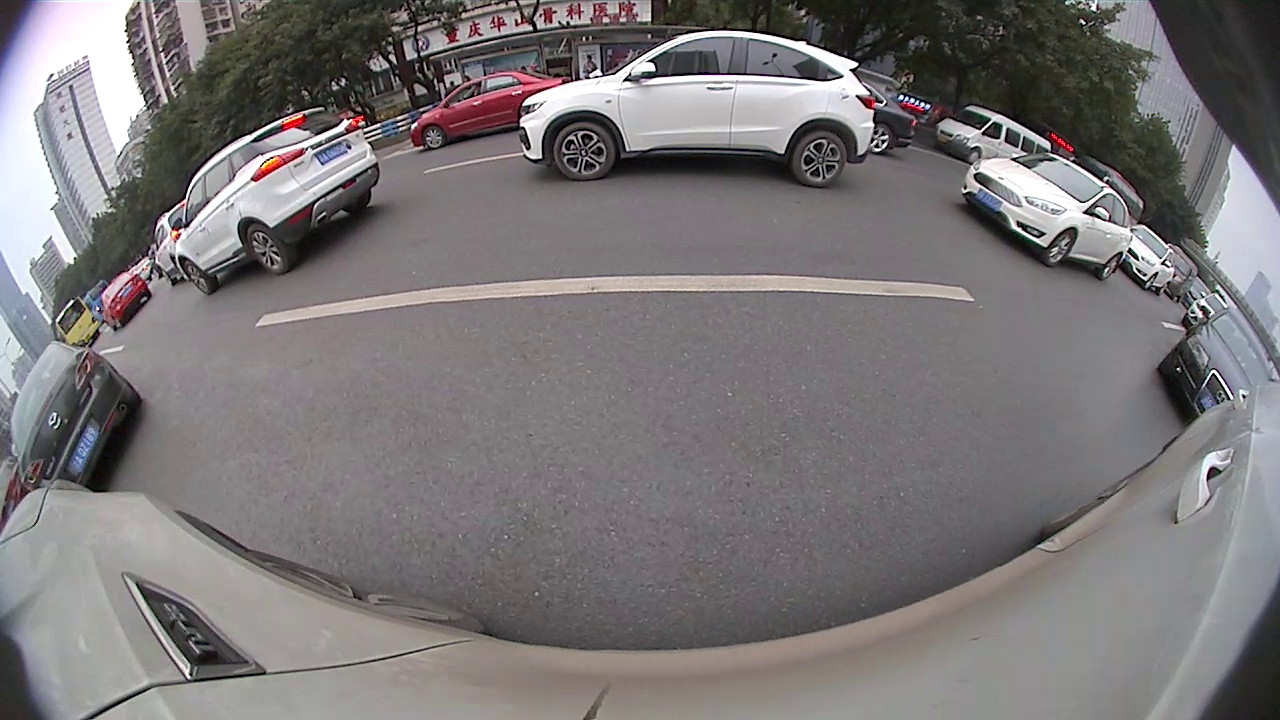bus: (53, 295, 102, 348)
car: (518, 29, 875, 188), (173, 106, 378, 295), (960, 150, 1133, 278), (10, 340, 143, 489), (408, 69, 575, 153), (1154, 305, 1269, 424), (933, 106, 1053, 163), (1118, 222, 1177, 296), (94, 270, 153, 333)
front: (553, 121, 617, 182), (1044, 227, 1078, 268), (182, 257, 218, 295), (421, 124, 447, 150), (1142, 270, 1160, 293)
rear: (794, 131, 847, 187), (247, 224, 293, 276), (867, 123, 895, 155), (1098, 250, 1122, 279)
